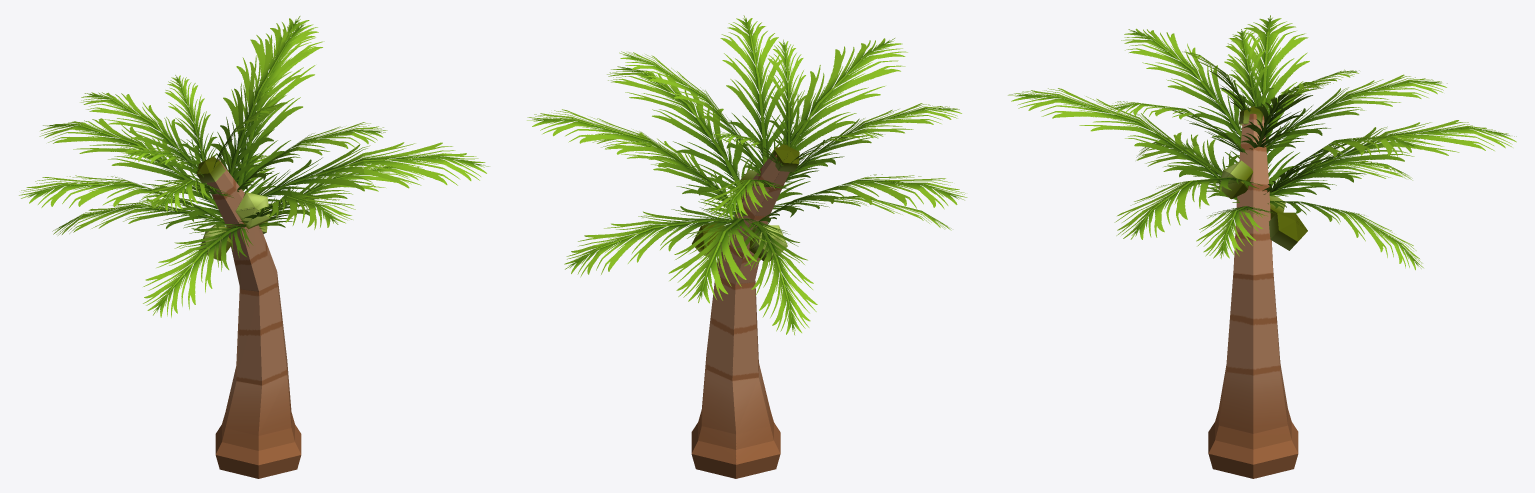
The model's file is Palmera.fbx.
The picture shows the model from 3 angles, left to right: view 1: azimuth 30°, elevation 25°; view 2: azimuth 150°, elevation 25°; view 3: azimuth 270°, elevation 25°; orthographic projection. The views are drawn at different scales.
Parts seen in each view (by area): view 1: pPlane56; view 2: pPlane56; view 3: pPlane56.
Part boxes in pixels (x1,y1,x2,y2): pPlane56: [19, 16, 489, 478]; pPlane56: [527, 15, 967, 478]; pPlane56: [1008, 15, 1516, 478].
Bounding box in the file's own units: 3.98 × 3.67 × 4.13.
